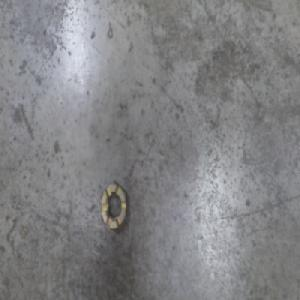Nut: (99, 179, 128, 233)
